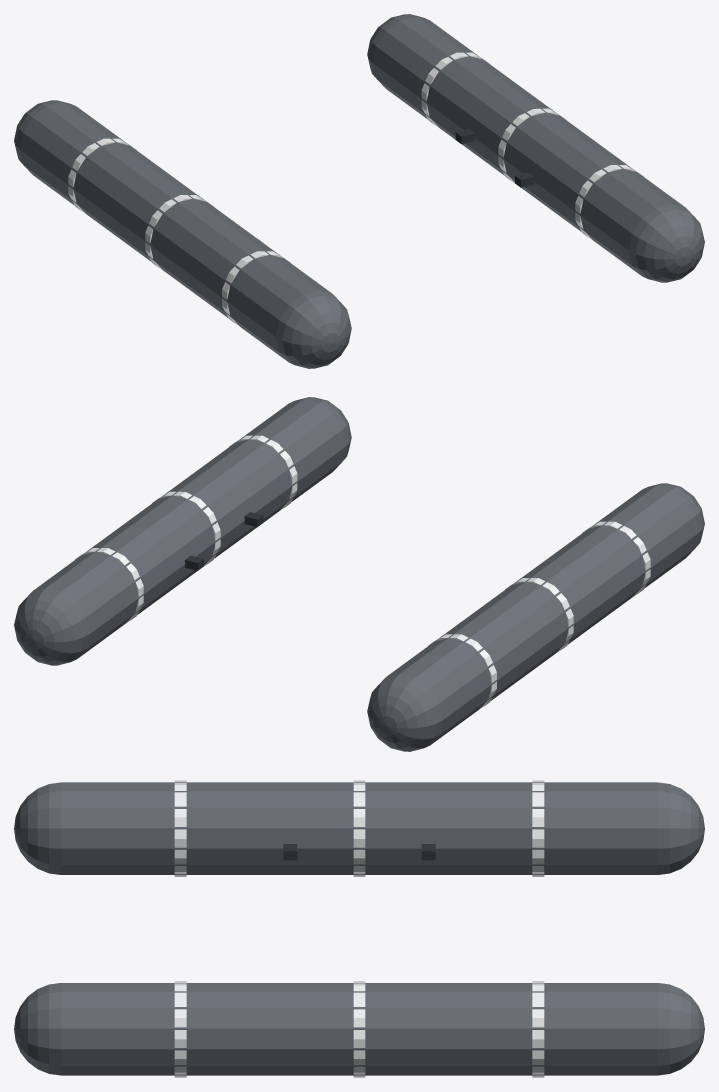
The model's file is strada_evo.glb.
3 views of the same model, one above another, from view 1: azimuth 30°, elevation 25°; view 2: azimuth 150°, elevation 25°; view 3: azimuth 270°, elevation 25° (orthographic). The views are drawn at different scales.
Visible parts, largest first — view 1: model; view 2: model; view 3: model.
Boxes of the visible parts, x1,y1,x2,y2 form: model: (14,14,704,368); model: (14,397,704,751); model: (14,780,704,1077).
Bounding box in the file's own units: 2.88 × 0.4896 × 3.5.
1 material, 1 textured.
